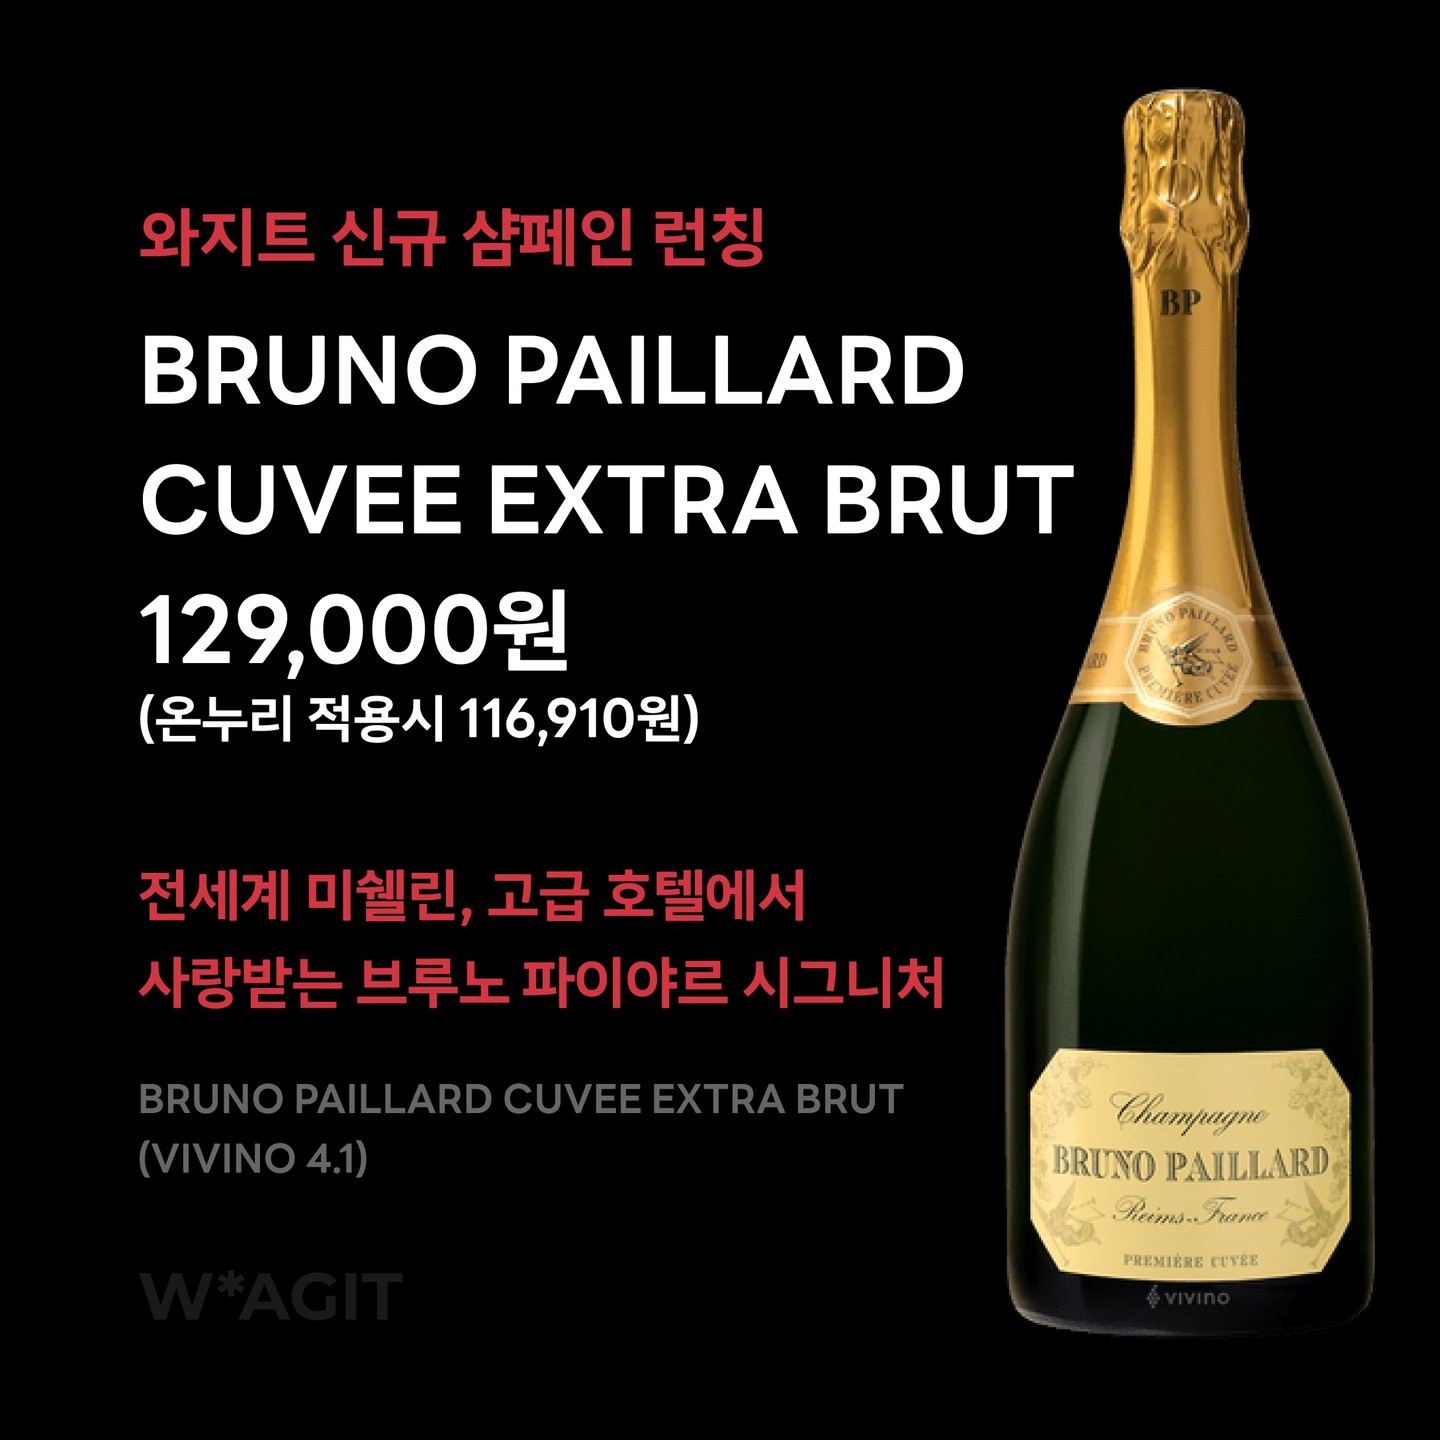alcohol: (993, 78, 1383, 1346)
